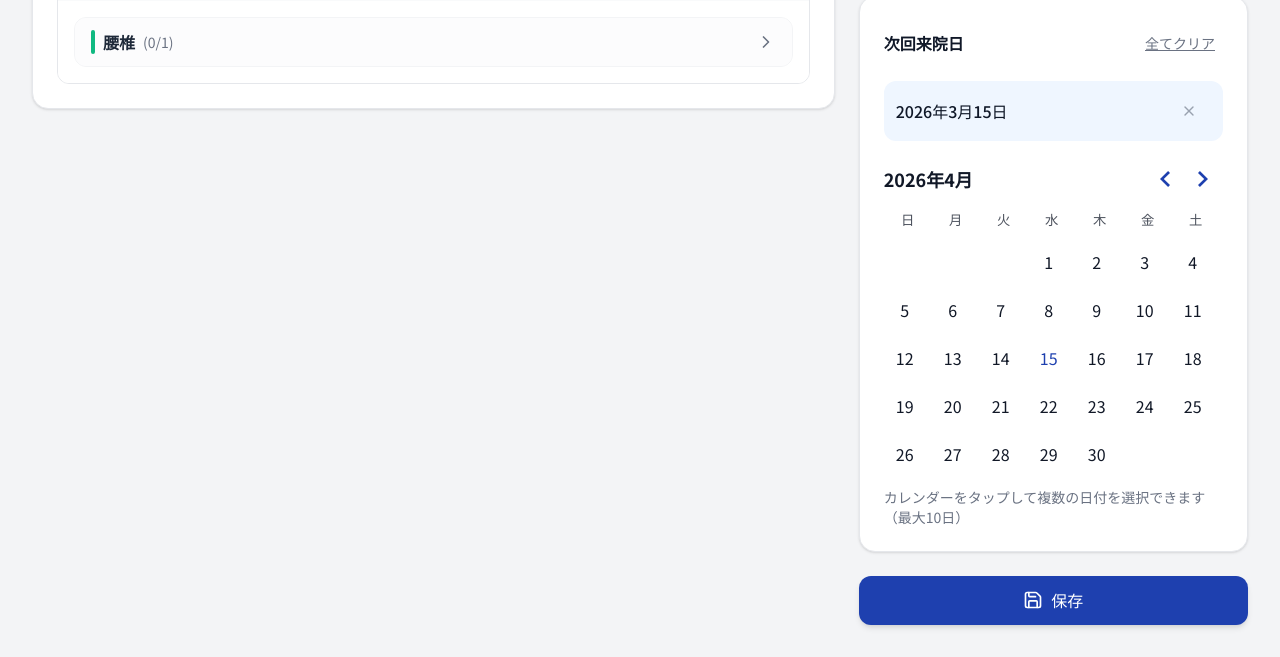
Test case: S-06 ExerciseMenu › form submission › should show error message on submission failure
(page scrolled)
Click the button "保存".
click(1053, 600)  # box [859,576,1248,625]
(page scrolled)
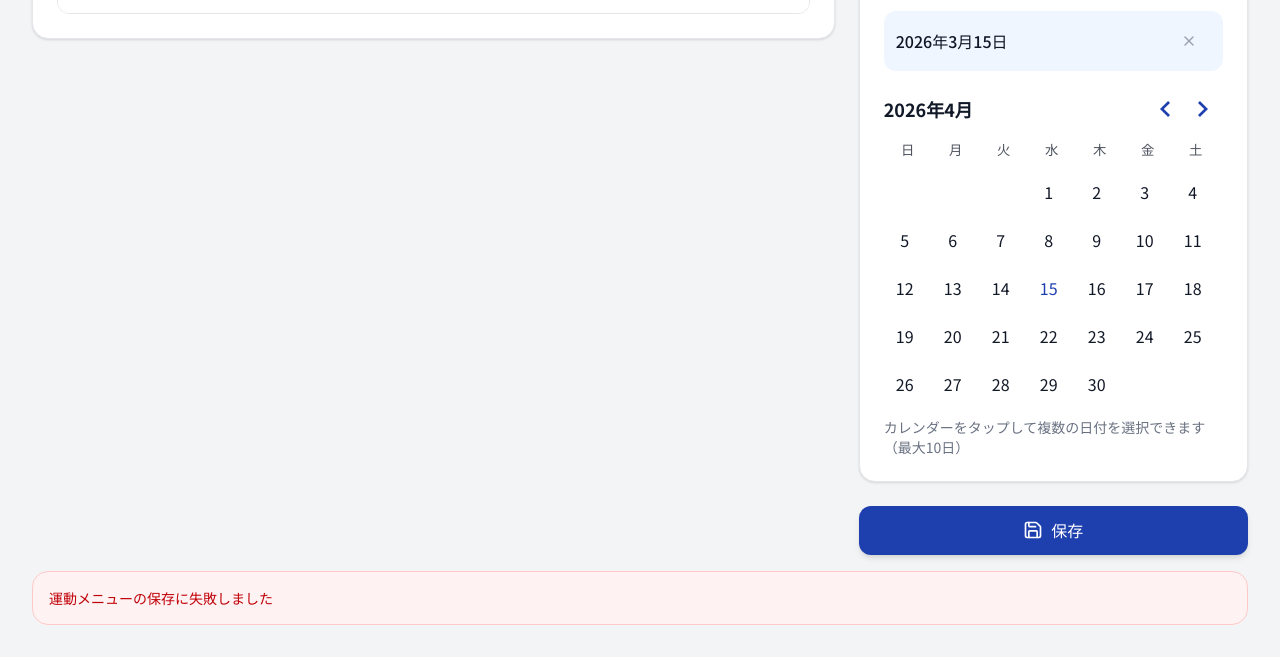
Expected: the text "運動メニューの保存に失敗しました" is shown, [49,588,273,608]
